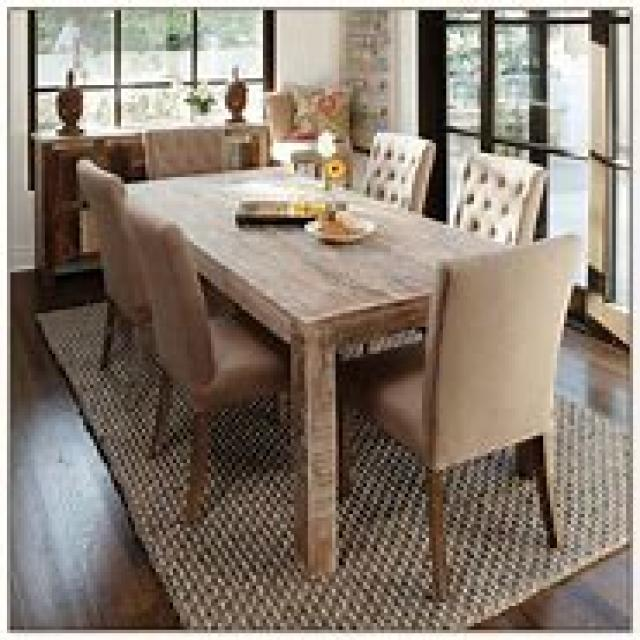chair: (336, 232, 581, 599)
table: (118, 160, 512, 575)
